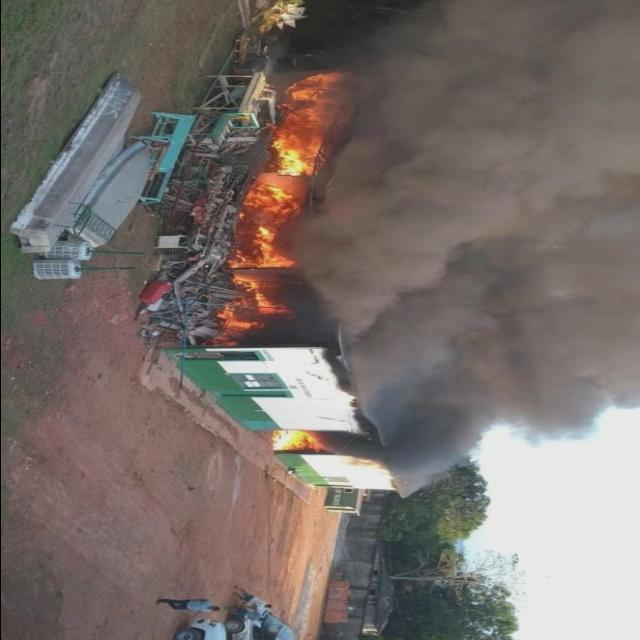Fire: (252, 70, 356, 173), (218, 180, 308, 270), (205, 274, 298, 344), (266, 428, 326, 454)
